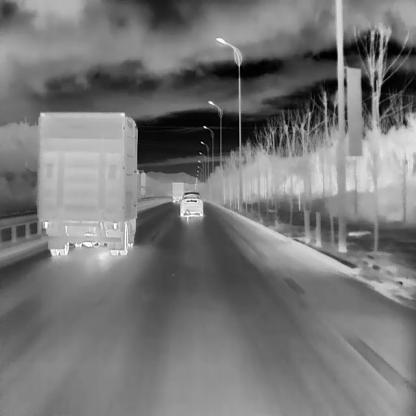car: (37, 111, 145, 255), (180, 191, 203, 216), (172, 181, 183, 202)
